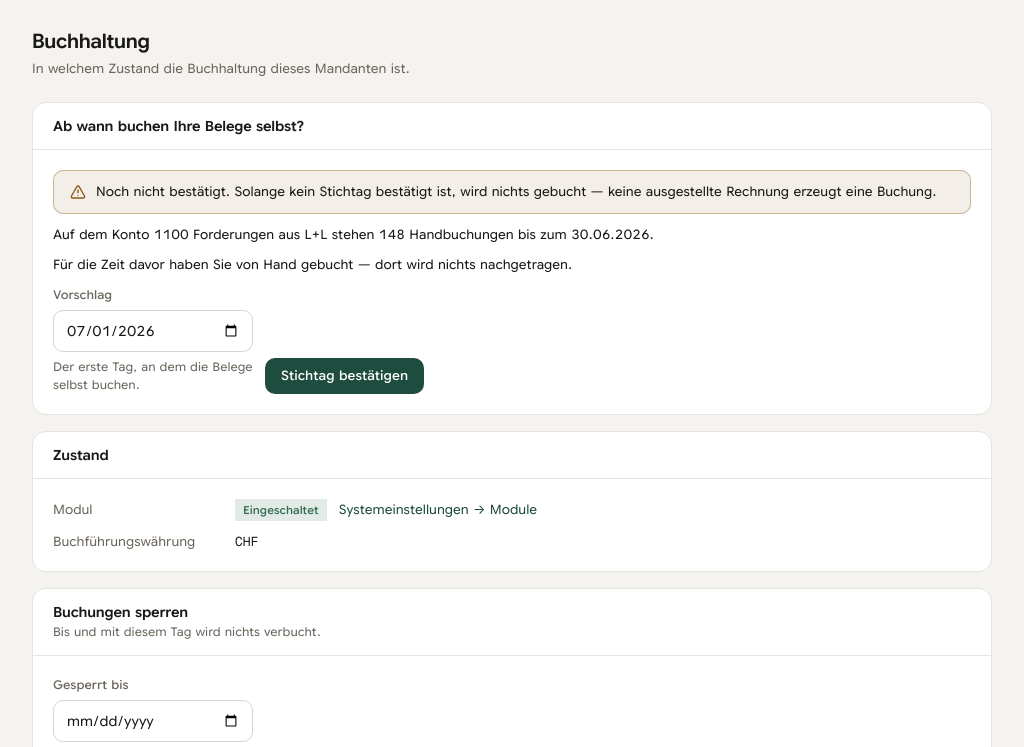
it: AccountingStatePage › postingStartPanelConfirmsThroughPutSettingsTest
Click the button "Stichtag bestätigen". click: coordinates (344, 376)
box: [265, 358, 424, 394]
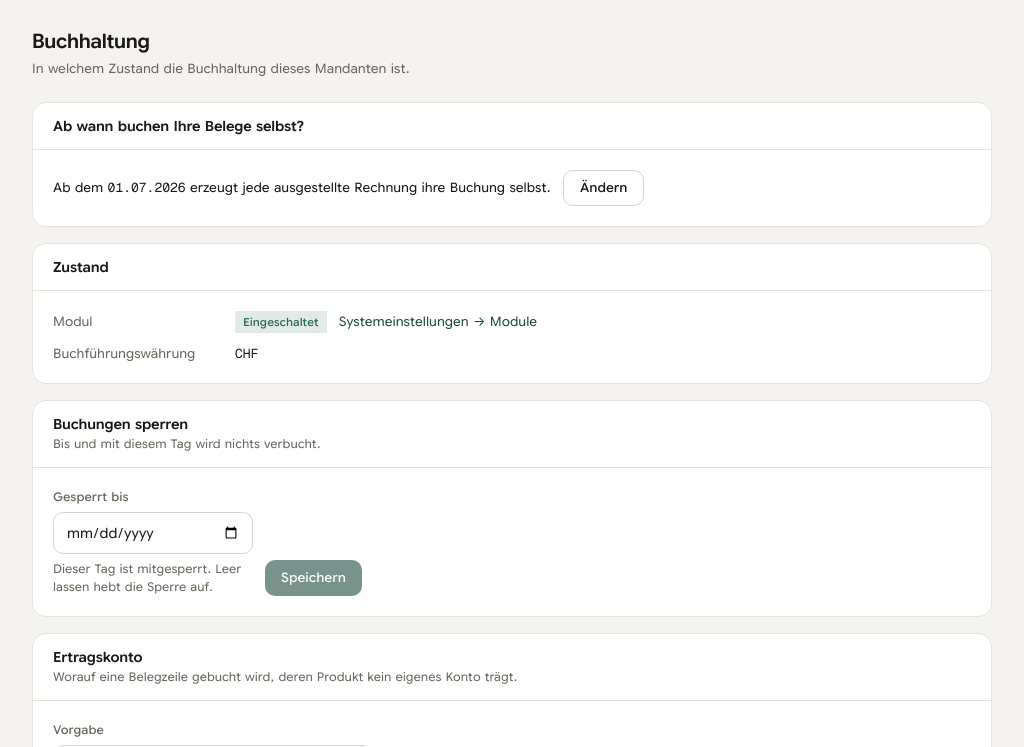
Check: the element that starts with "Ab wann buchen Ihre Belege selbst?" shows "Ab dem 01.07.2026", box [32, 102, 992, 227]
